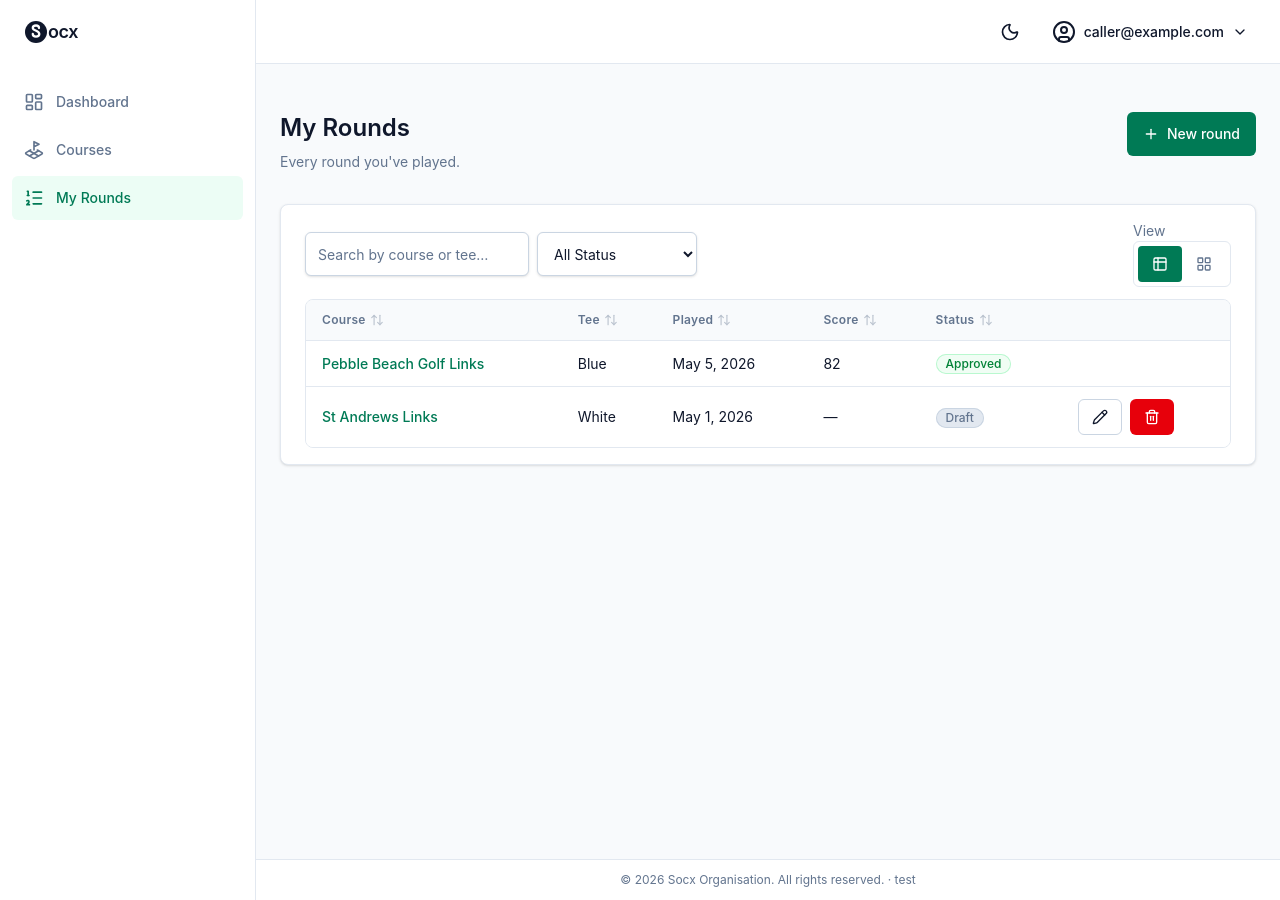
Test: MyRoundsPage › deletes an editable round via a real confirmation Modal and refreshes the list
Expected: the text "Draft" is shown, [936,408,984,428]
What coordinates should you click on to do the following:
click the button named "Delete round at St Andrews Links"
I would click on:
 (1152, 417)
Its box is [1130,399,1174,435].
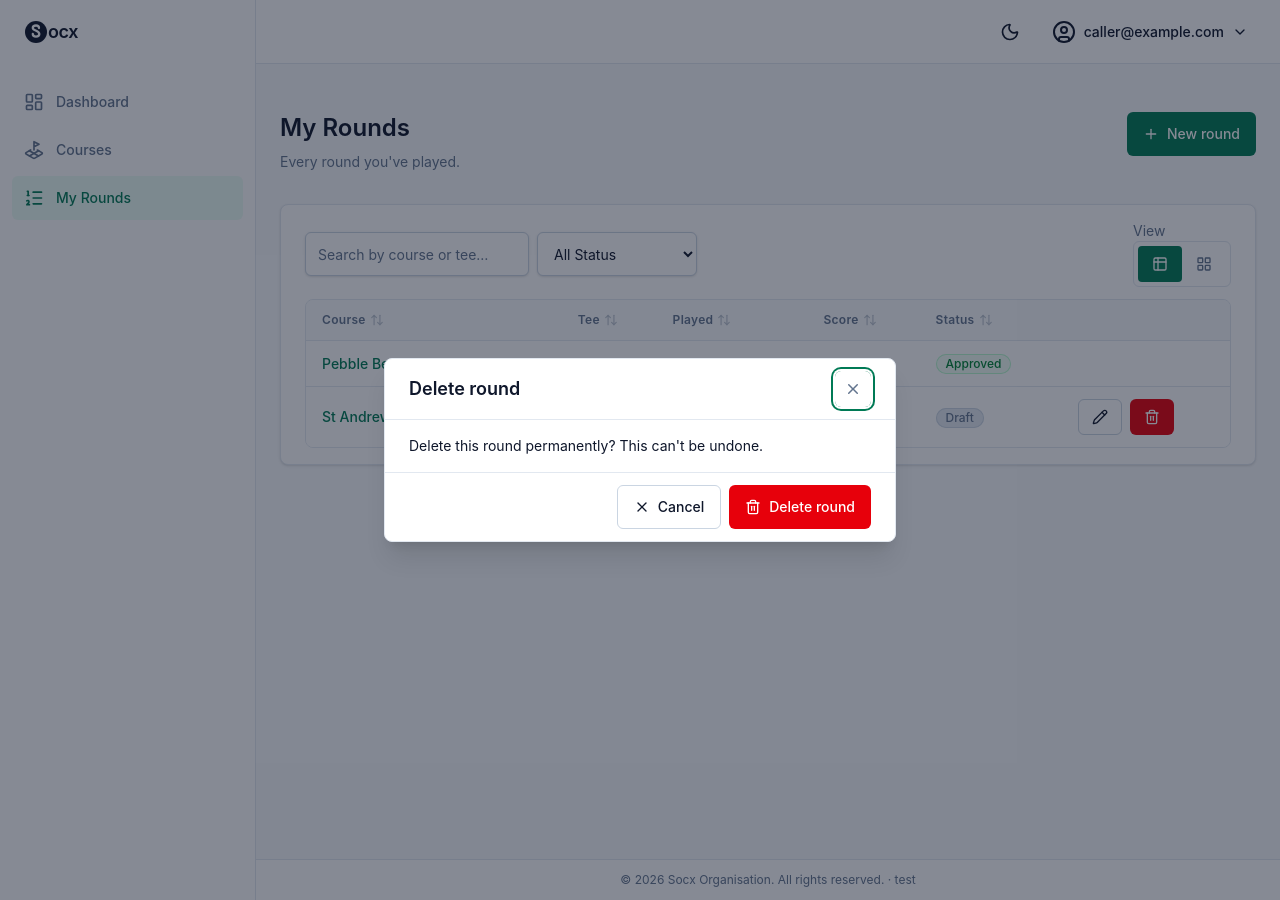
What coordinates should you click on to do the following:
click the button "Delete round"
I would click on:
 (800, 507)
Its box is [729,485,871,529].
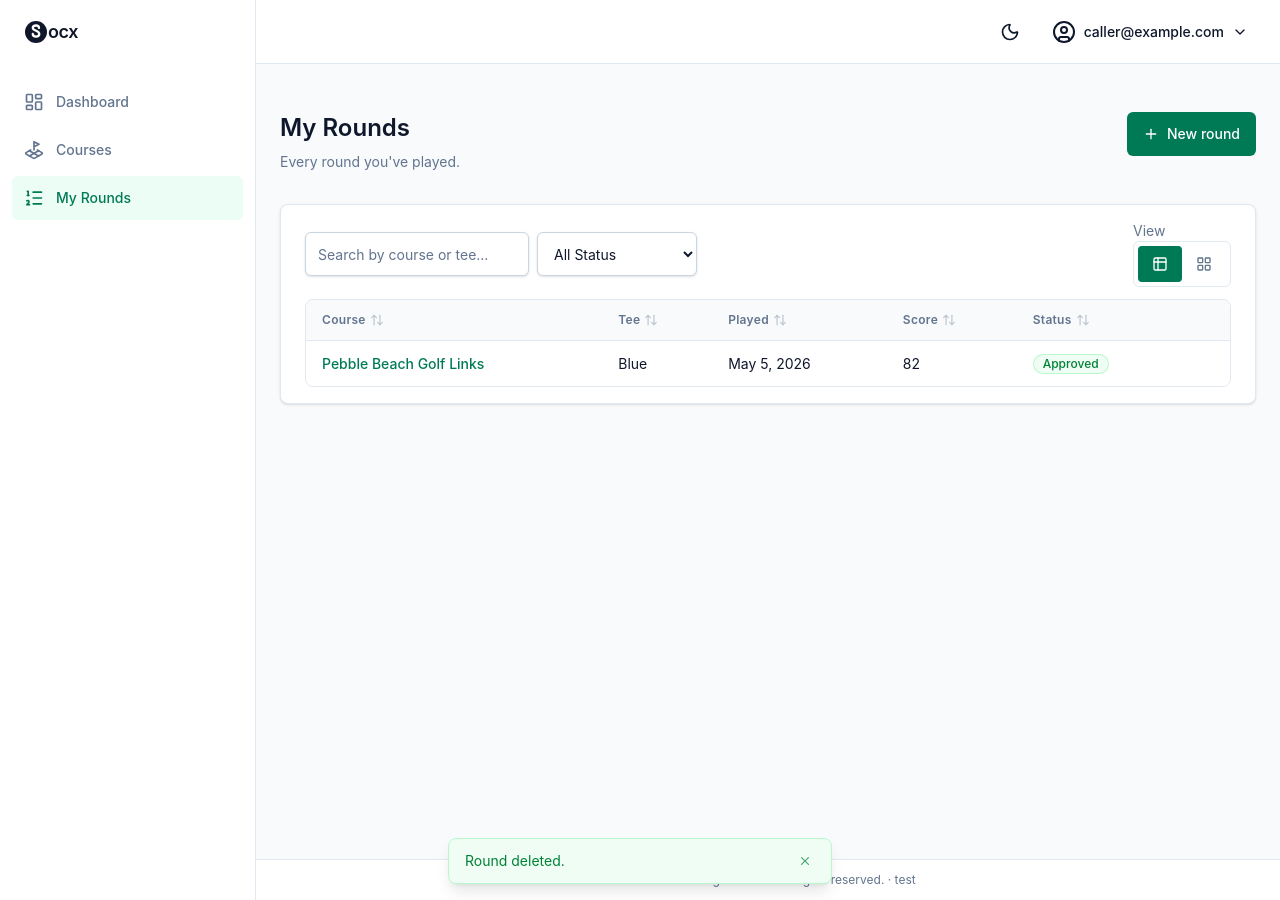
Expected: the message reads "Round deleted.", [465,852,565,869]
Expected: the text "Draft" is gone
